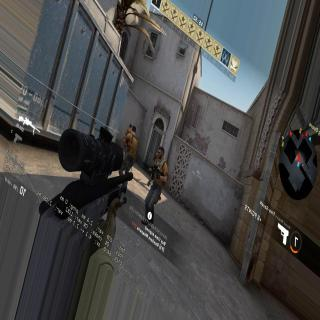T-Body: (147, 147, 167, 228), (118, 125, 138, 191), (126, 123, 132, 134)
T-Head: (158, 146, 163, 158), (132, 125, 136, 135), (130, 124, 132, 128)
